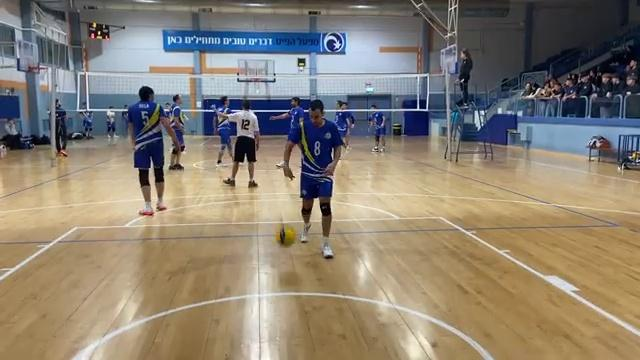ball: (268, 220, 305, 251)
